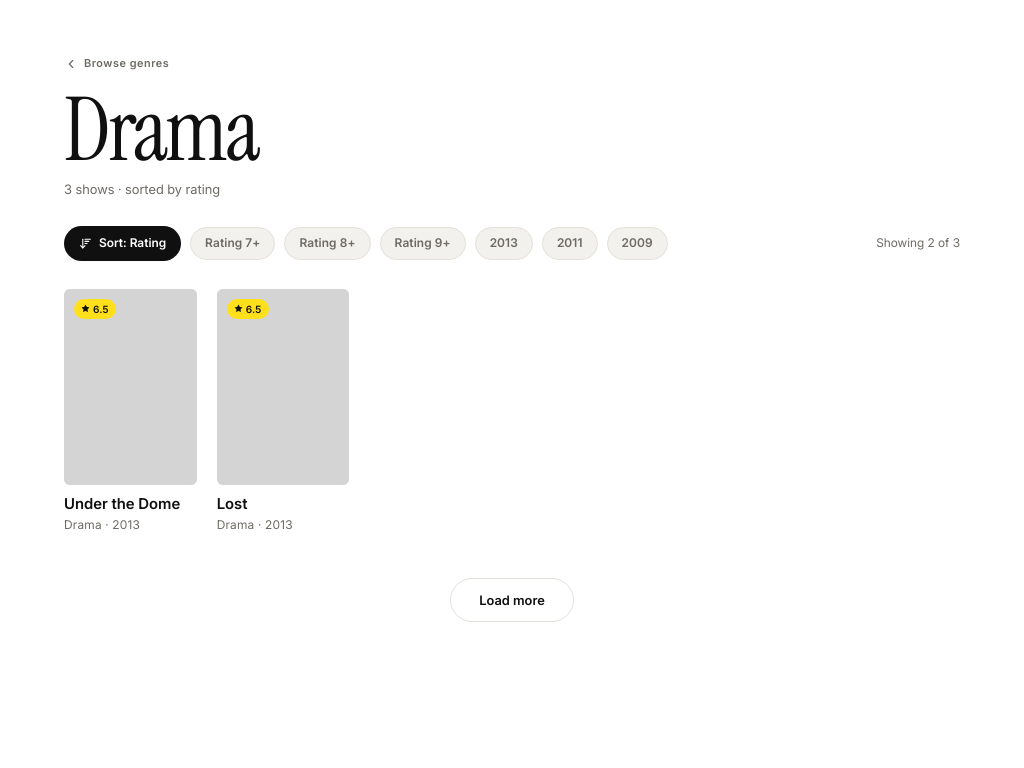
it: GenreView load more failures › keeps the failure on screen when the retry fails as well
Click the button with test id "genre-load-more-btn": coordinates (512, 600) [450, 578, 574, 622]
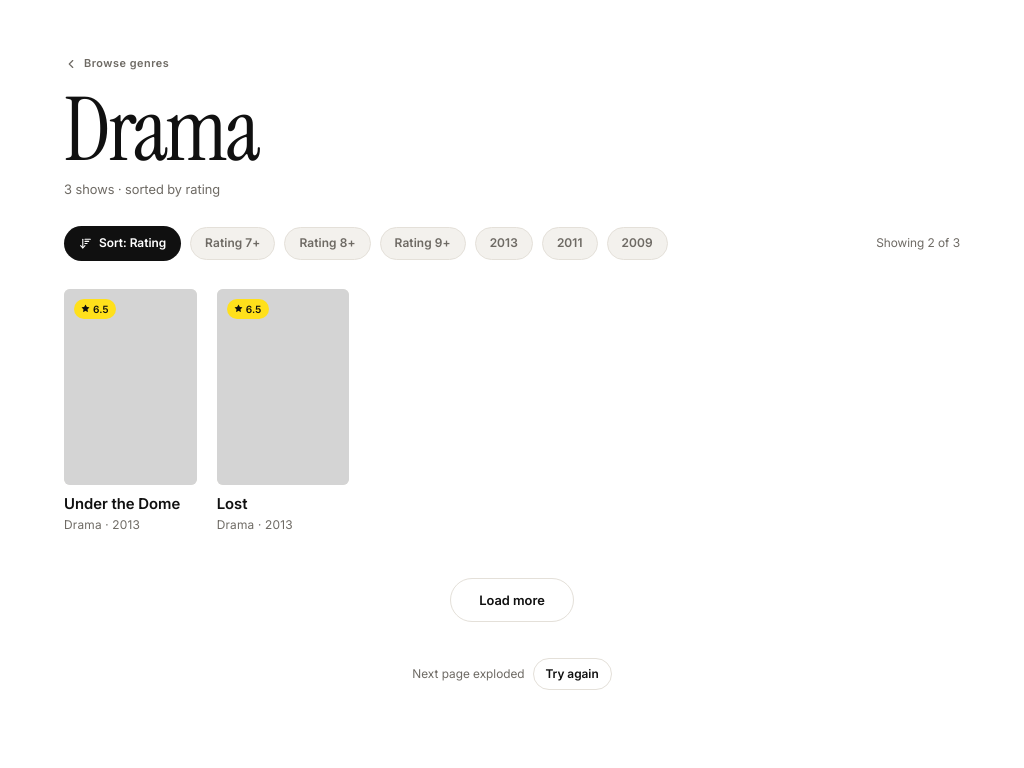
Click the button with test id "genre-load-more-retry-btn": coordinates (572, 674) [532, 658, 612, 690]
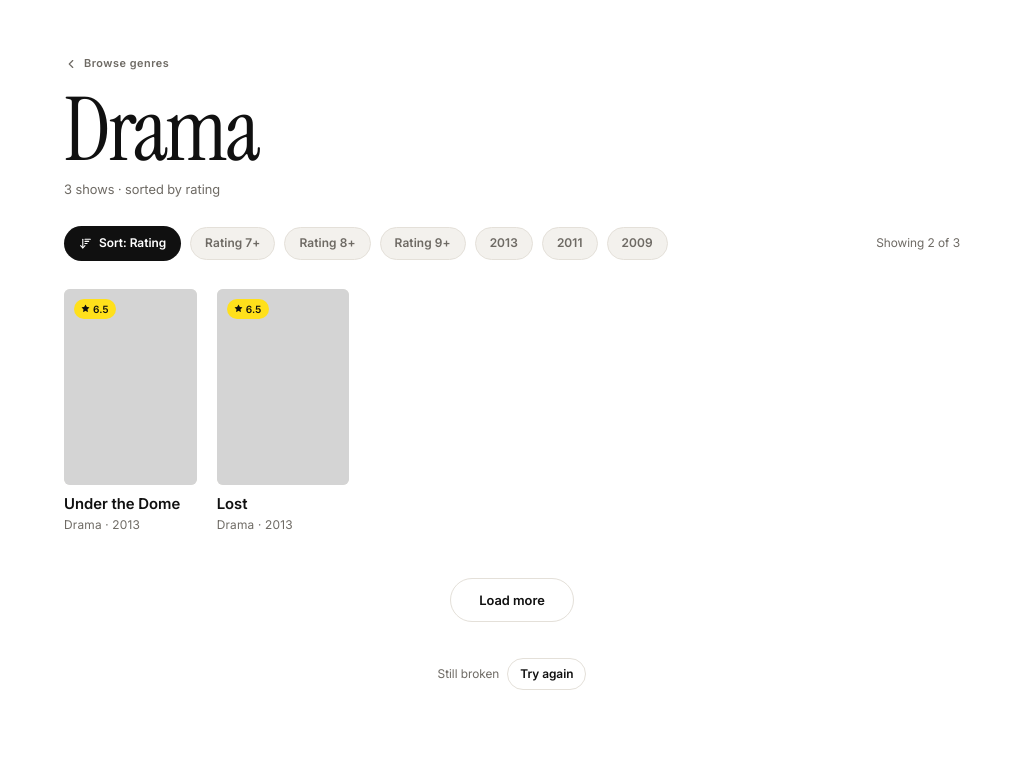
Expected: the element with test id "genre-load-more-error" shows "Still broken", [438, 666, 499, 681]
